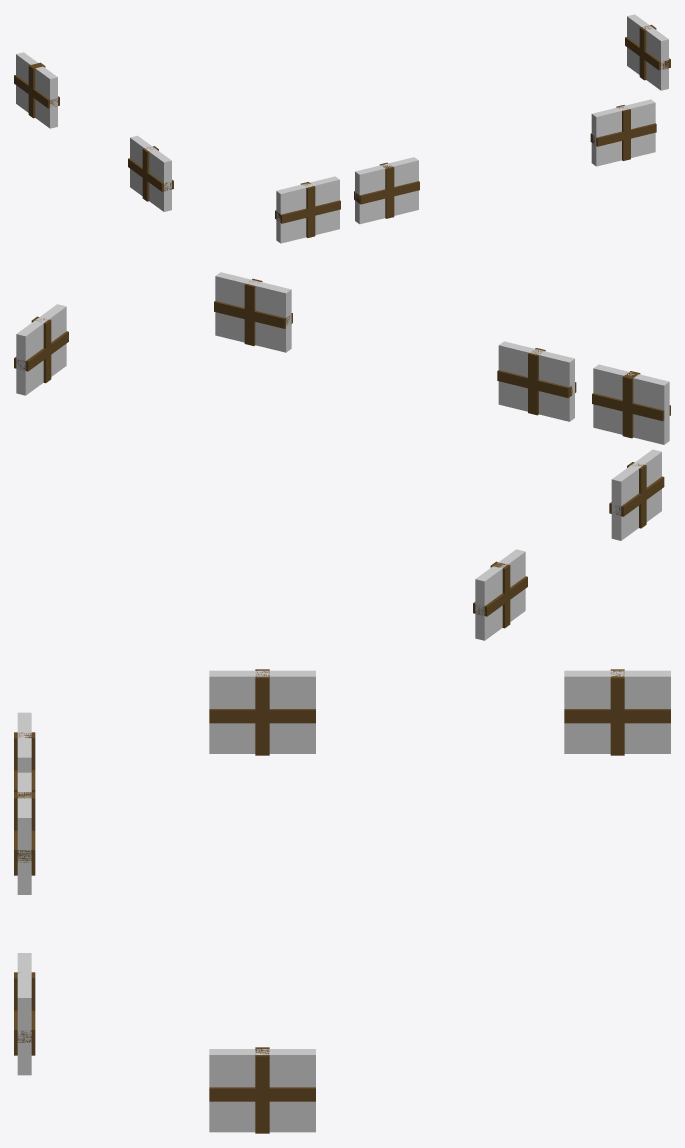
The model's file is SM_CabinWindows.fbx.
3 renders of one model, top to bottom at view 1: azimuth 30°, elevation 25°; view 2: azimuth 150°, elevation 25°; view 3: azimuth 270°, elevation 25°, orthographic. The views are drawn at different scales.
Parts seen in each view (by area): view 1: Windows; view 2: Windows; view 3: Windows.
Part boxes in pixels (x1,y1,x2,y2): Windows: (14,14,670,243); Windows: (14,272,670,640); Windows: (14,669,670,1133).
Bounding box in the file's own units: 1290 × 120 × 925.
